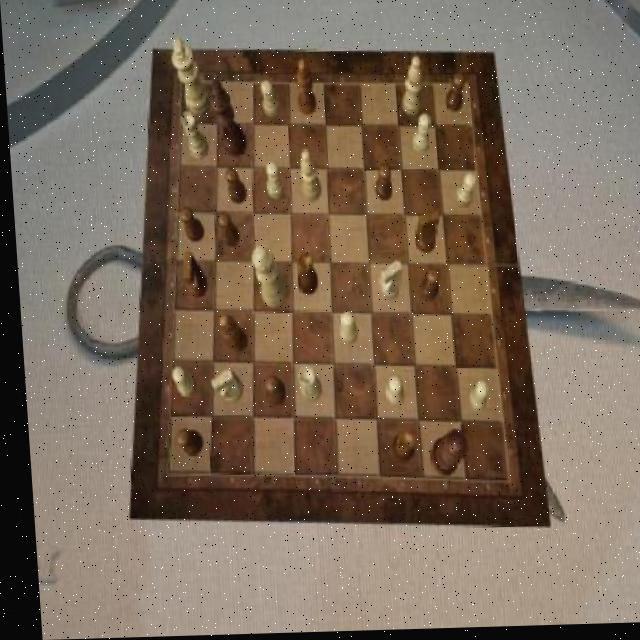bishop: (214, 315, 243, 355), (294, 59, 314, 117)
black-bishop: (208, 81, 246, 160)
black-king: (410, 213, 437, 256), (178, 253, 203, 299)
black-knight: (442, 75, 464, 116), (176, 208, 200, 243), (222, 169, 244, 205), (214, 214, 236, 249), (169, 430, 196, 458), (415, 269, 436, 304), (370, 167, 389, 203), (259, 377, 280, 406)
black-pawn: (422, 431, 462, 478)
black-queen: (292, 254, 314, 297), (383, 433, 408, 467)
black-rook: (396, 60, 422, 119), (297, 150, 319, 204)
white-bishop: (168, 39, 209, 117)
white-king: (204, 369, 239, 404), (373, 262, 399, 303)
white-knight: (408, 116, 430, 157), (452, 175, 476, 210), (165, 367, 190, 400), (262, 163, 282, 201), (259, 81, 279, 119), (461, 383, 484, 416), (335, 312, 354, 347), (379, 377, 399, 409)
white-pawn: (248, 246, 284, 311)
white-queen: (178, 112, 205, 162), (292, 369, 317, 405)
